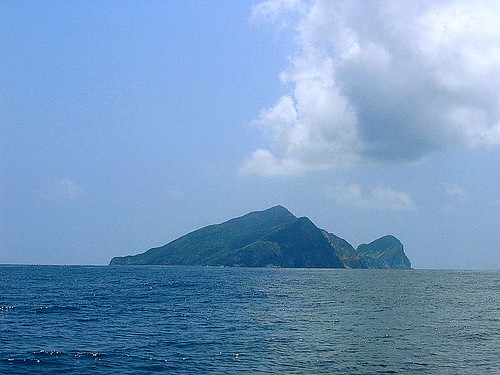turtleIsland: (105, 205, 415, 271)
